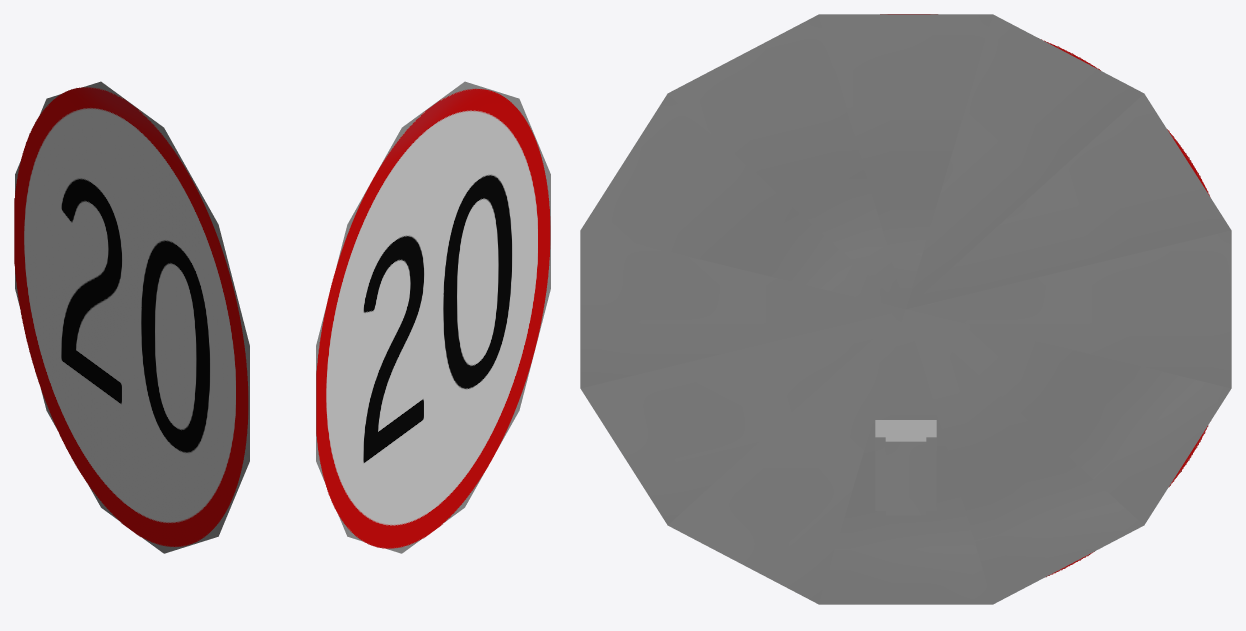
The model's file is speed_20_large.obj.
The picture shows the model from 3 angles, left to right: view 1: azimuth 30°, elevation 25°; view 2: azimuth 150°, elevation 25°; view 3: azimuth 270°, elevation 25°; orthographic projection. The views are drawn at different scales.
Visible parts, largest first — view 1: cube, circle; view 2: cube, circle; view 3: circle, cube.
Part boxes in pixels (x1,y1,x2,y2): cube: (14,87,248,547); circle: (15,81,249,553); cube: (316,88,550,548); circle: (316,81,550,553); circle: (580,14,1231,604); cube: (875,14,1209,577).
Size of the model in its own units: 0.0797 by 1 by 1.
Materials: 2 (2 with a texture image).
